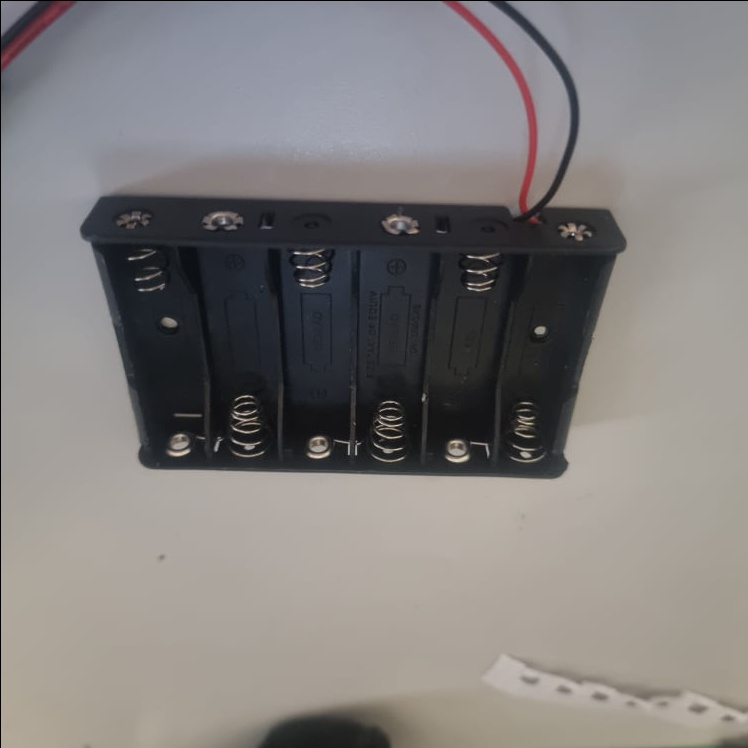BATTERY BOX: (80, 200, 629, 479)
